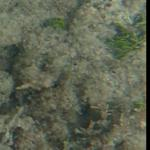dead: (1, 3, 145, 148)
